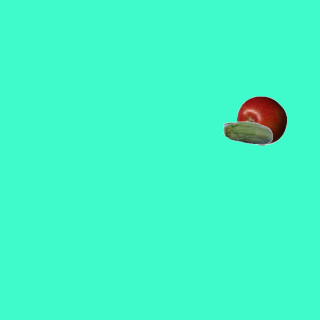Apple Braeburn: (236, 95, 286, 145)
Corn Husk: (222, 109, 272, 159)
